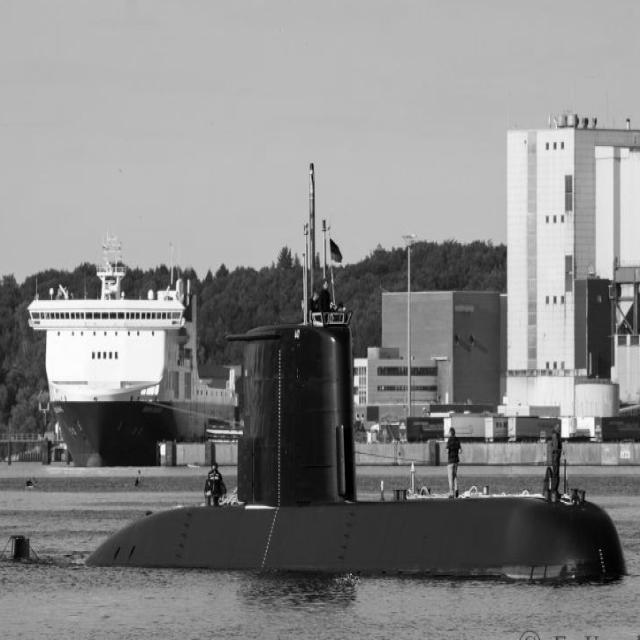submarine: (19, 172, 640, 574)
